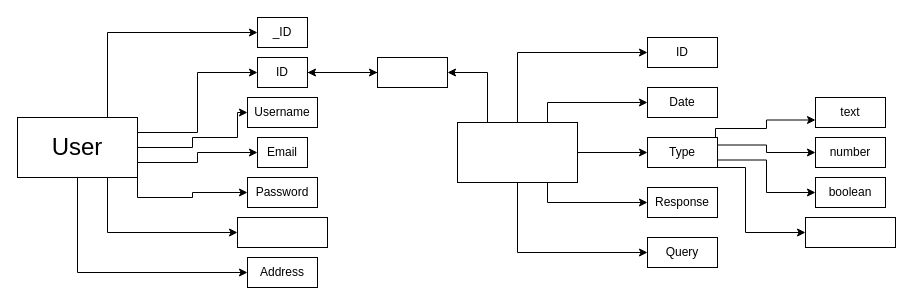
This 913x305 diagram has some shape labels left out. The centre of each missing label's shape, as x and y in pixels:
"multiple_choice" belongs at (850,232).
"Owner_id" belongs at (412,72).
"profile_pic" belongs at (282,232).
"Question" belongs at (517,152).
